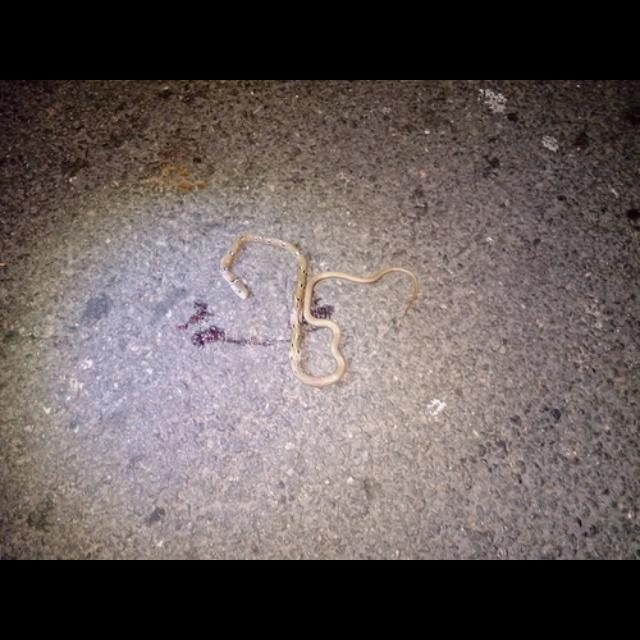snake: (225, 230, 419, 392)
